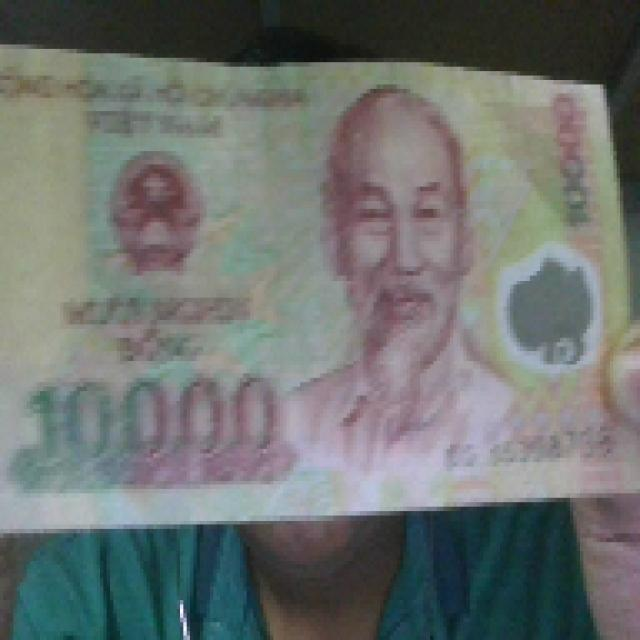10 000 VND: (0, 35, 637, 529)
